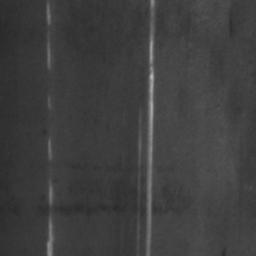Bright scratch: (146, 0, 156, 256), (47, 216, 55, 256), (46, 42, 52, 69), (46, 0, 52, 26), (49, 186, 54, 206), (47, 141, 52, 159)
